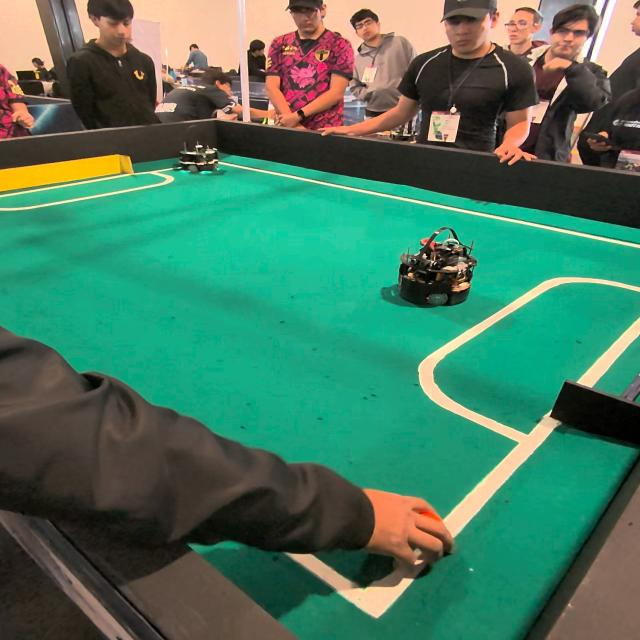Robot: (397, 228, 479, 312), (174, 121, 226, 182)
